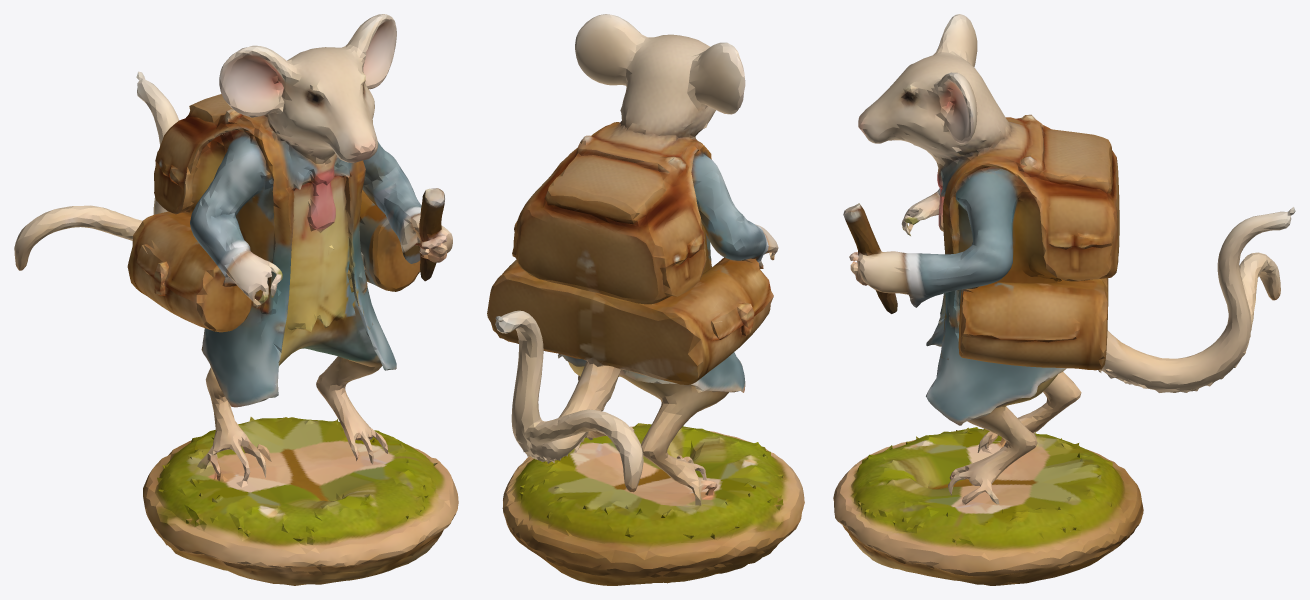
3 renders of one model, left to right at view 1: azimuth 30°, elevation 25°; view 2: azimuth 150°, elevation 25°; view 3: azimuth 270°, elevation 25°, orthographic. The views are drawn at different scales.
Visible parts, largest first — view 1: 004; view 2: 004; view 3: 004.
Part boxes in pixels (box(x1,y1,x2,y2)): 004: box(14, 14, 458, 585); 004: box(487, 14, 804, 585); 004: box(833, 14, 1295, 585).
Size of the model in its own units: 1.06 by 1.9 by 1.61.
Materials: 1 (1 with a texture image).
